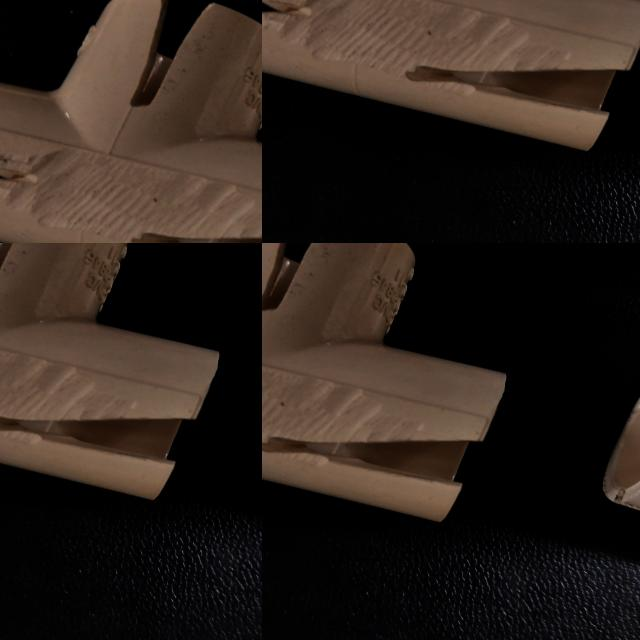Defective: (313, 444, 475, 492), (262, 243, 311, 316)
T Joint: (262, 243, 509, 531), (603, 341, 640, 528)
